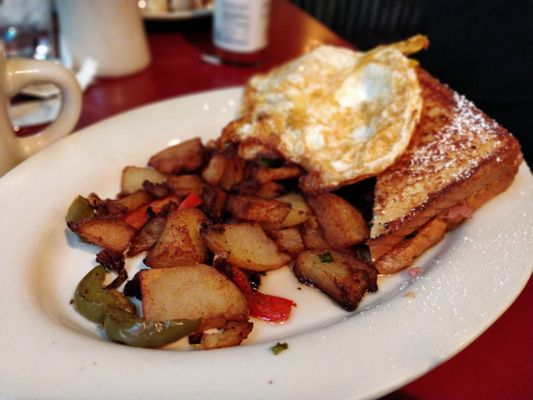pizza: (0, 3, 83, 180), (52, 0, 153, 82)
soup: (205, 41, 525, 294)
